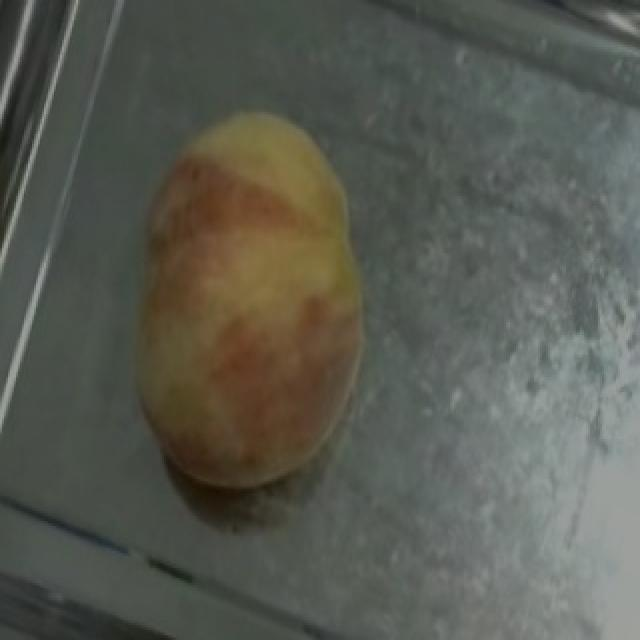Fruit: (98, 74, 412, 397)
